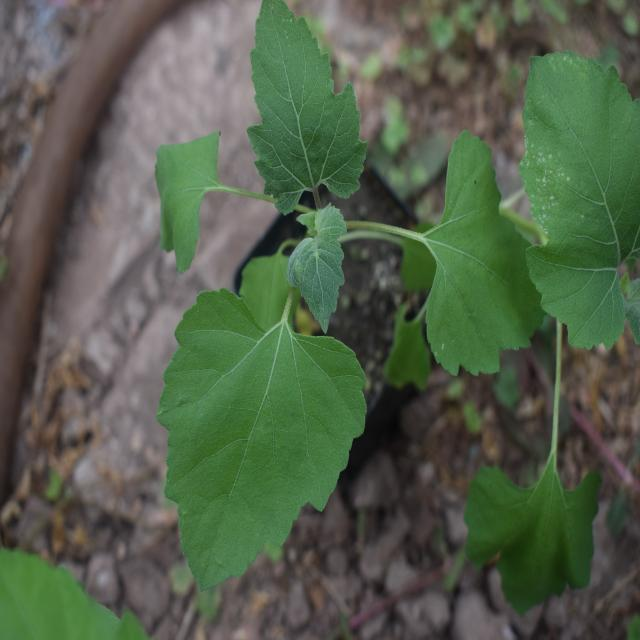cocklebur: (94, 27, 559, 541)
